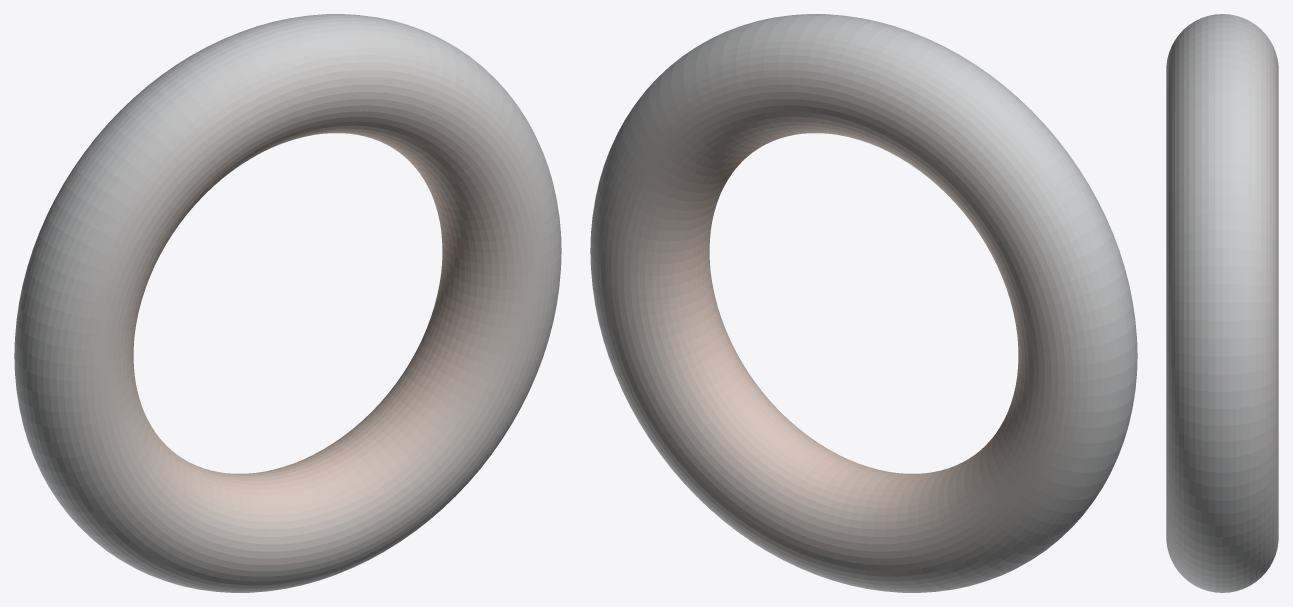
3 renders of one model, left to right at view 1: azimuth 30°, elevation 25°; view 2: azimuth 150°, elevation 25°; view 3: azimuth 270°, elevation 25°, orthographic. The views are drawn at different scales.
Visible parts, largest first — view 1: world; view 2: world; view 3: world.
Part boxes in pixels (x1,y1,x2,y2): world: (14,14,561,592); world: (590,14,1137,592); world: (1166,14,1278,592).
Size of the model in its own units: 28.13 by 28.13 by 5.46.
